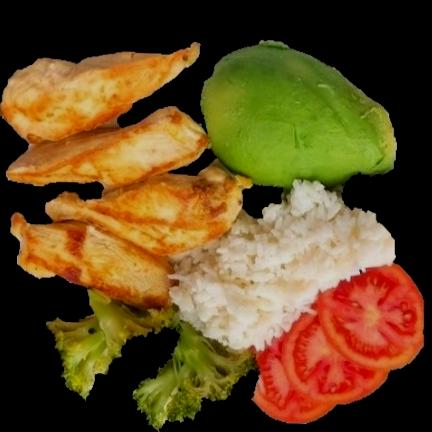broccoli: (48, 290, 255, 430)
chicken: (1, 44, 245, 306)
rice: (171, 180, 394, 349)
tomato: (254, 265, 423, 423)
